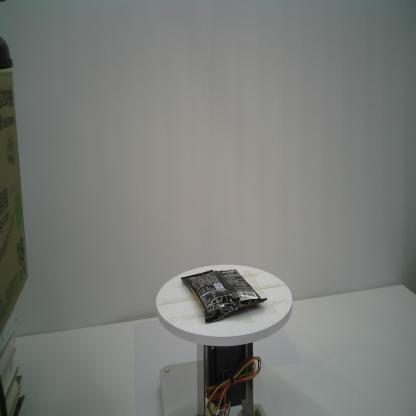Instant Drink: (180, 268, 268, 324)
